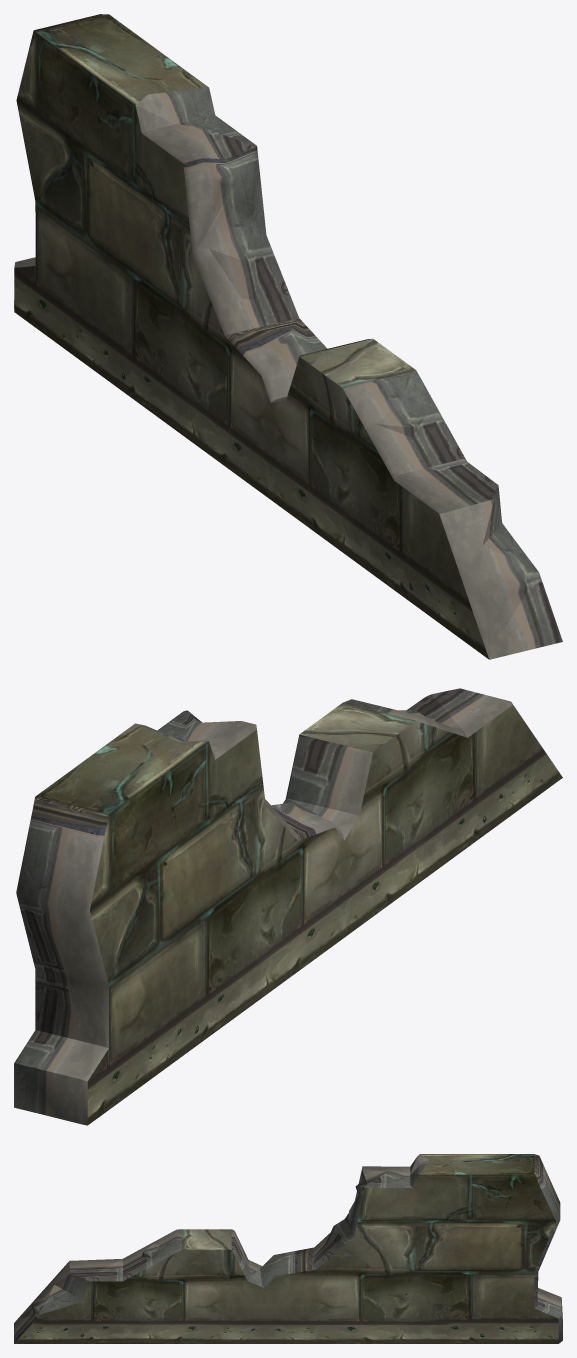
The model's file is F_waiqiang0017.fbx.
3 renders of one model, top to bottom at view 1: azimuth 30°, elevation 25°; view 2: azimuth 150°, elevation 25°; view 3: azimuth 270°, elevation 25°, orthographic. The views are drawn at different scales.
Parts seen in each view (by area): view 1: F_waiqiang0017; view 2: F_waiqiang0017; view 3: F_waiqiang0017.
Boxes of the visible parts, x1,y1,x2,y2 form: F_waiqiang0017: [14, 14, 562, 659]; F_waiqiang0017: [14, 688, 562, 1125]; F_waiqiang0017: [14, 1154, 562, 1343].
Size of the model in its own units: 30.9 by 118 by 348.
